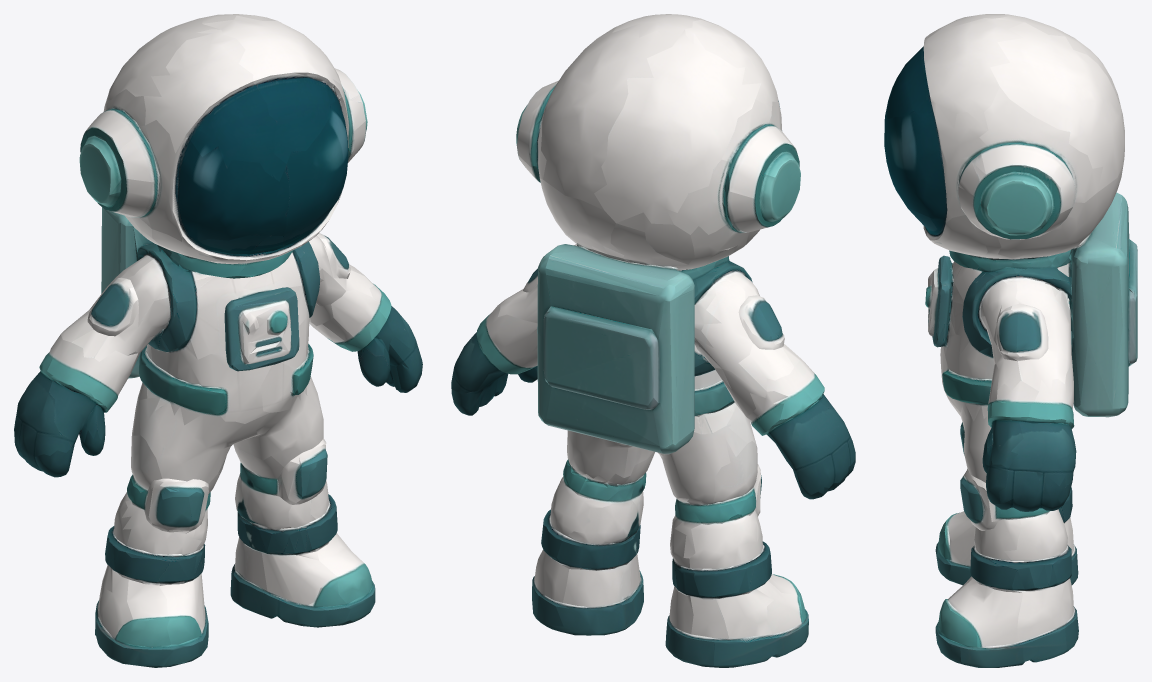
The model's file is astronaut-meshy-textures-1024.glb.
3 views of the same model, side by side, from view 1: azimuth 30°, elevation 25°; view 2: azimuth 150°, elevation 25°; view 3: azimuth 270°, elevation 25° (orthographic). The views are drawn at different scales.
Parts seen in each view (by area): view 1: output_unwrapped; view 2: output_unwrapped; view 3: output_unwrapped.
Part boxes in pixels (x1,y1,x2,y2): output_unwrapped: (14,14,422,667); output_unwrapped: (451,14,855,667); output_unwrapped: (884,14,1137,667).
Bounding box in the file's own units: 1.28 × 1.9 × 0.747.
1 material, 1 textured.
